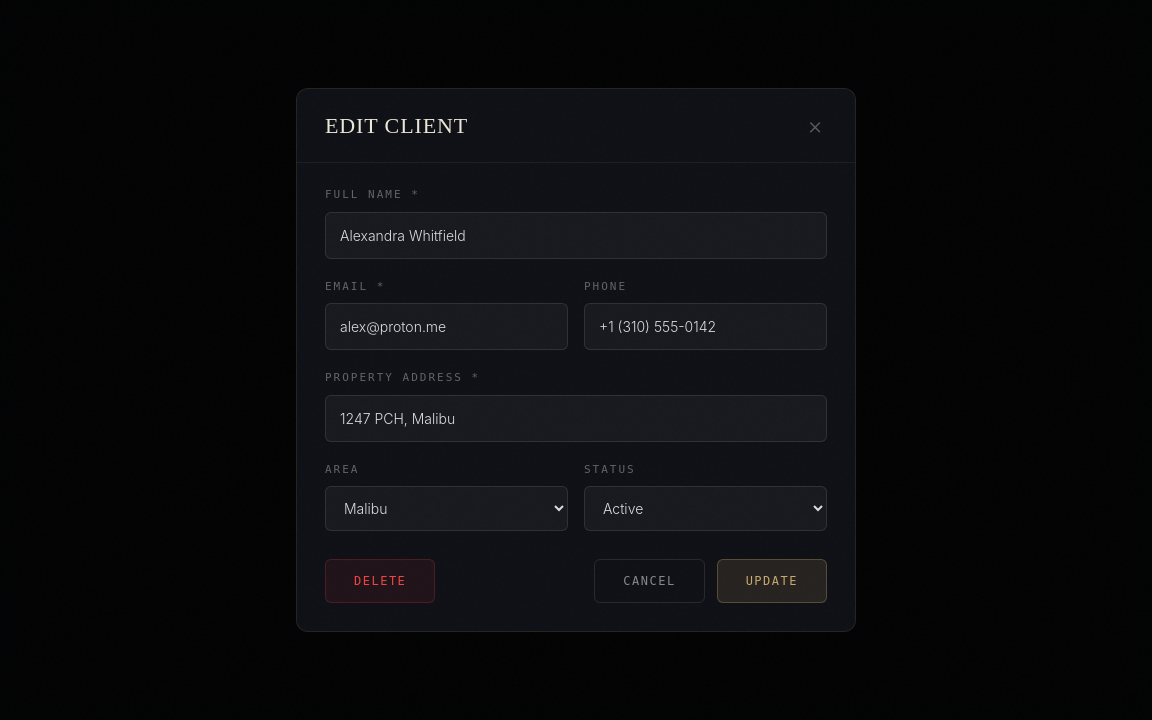
ClientModal › requires double-click to confirm delete
Click the button "DELETE". click: [380, 581]
box: [325,559,435,603]
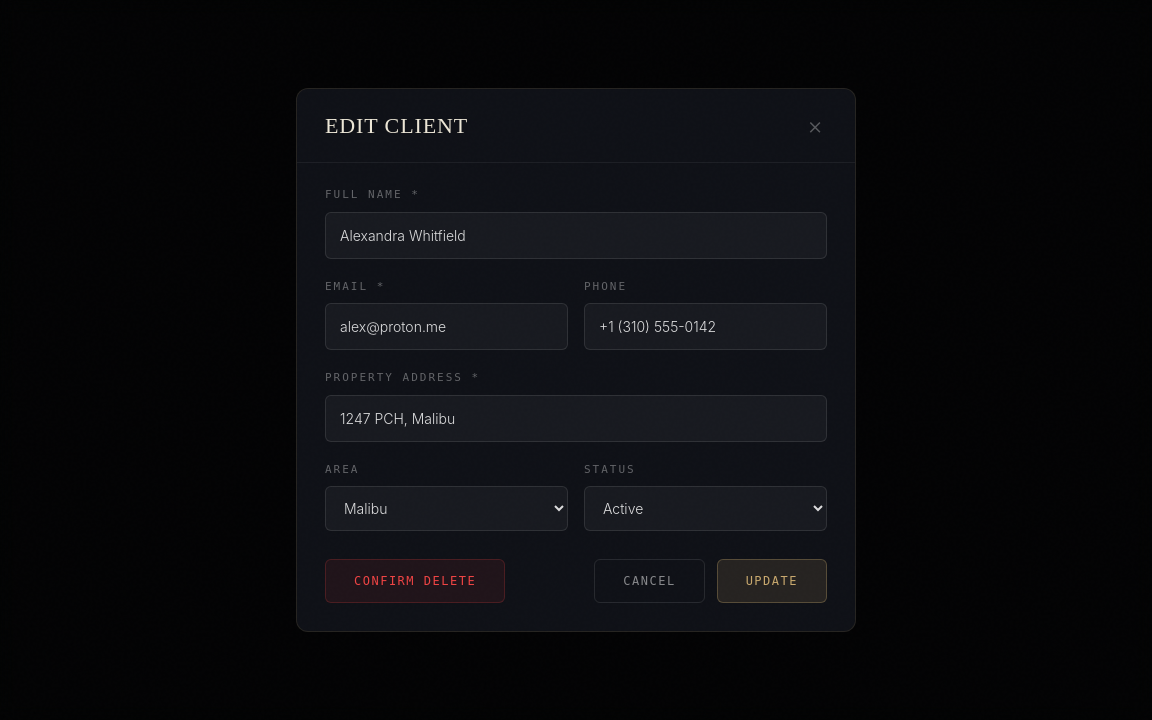
Now the button "CONFIRM DELETE" is shown, box [325,559,505,603]
